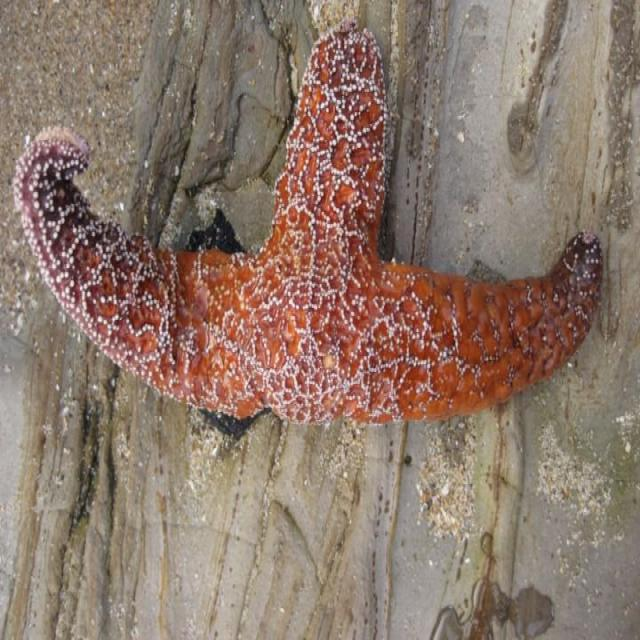starfish: (14, 20, 602, 423)
